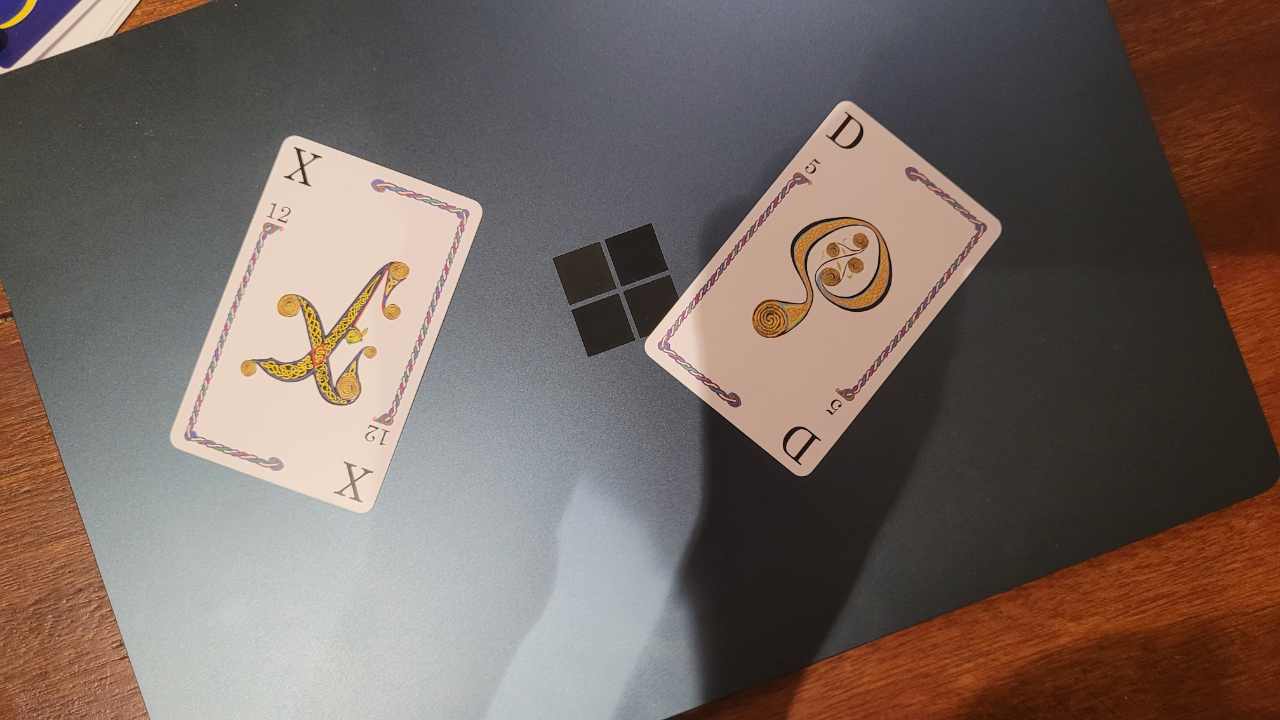quiddler_card: (629, 93, 1009, 486), (169, 126, 480, 519)
